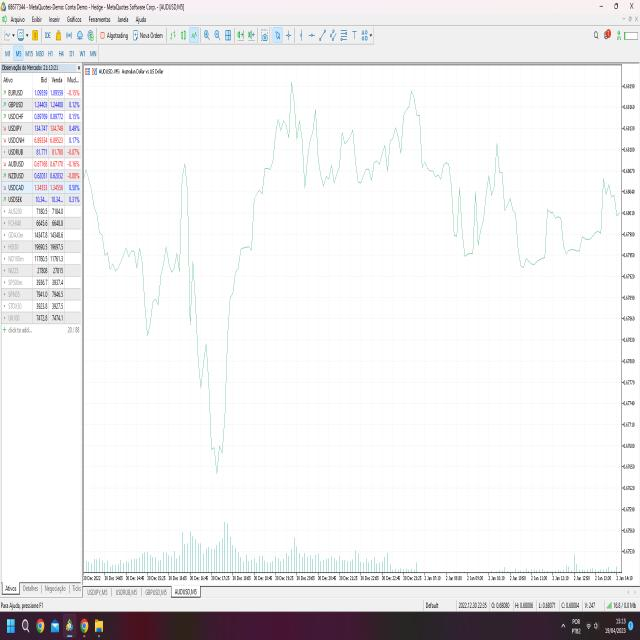oco_inv: (96, 187, 184, 354), (436, 116, 494, 299)
